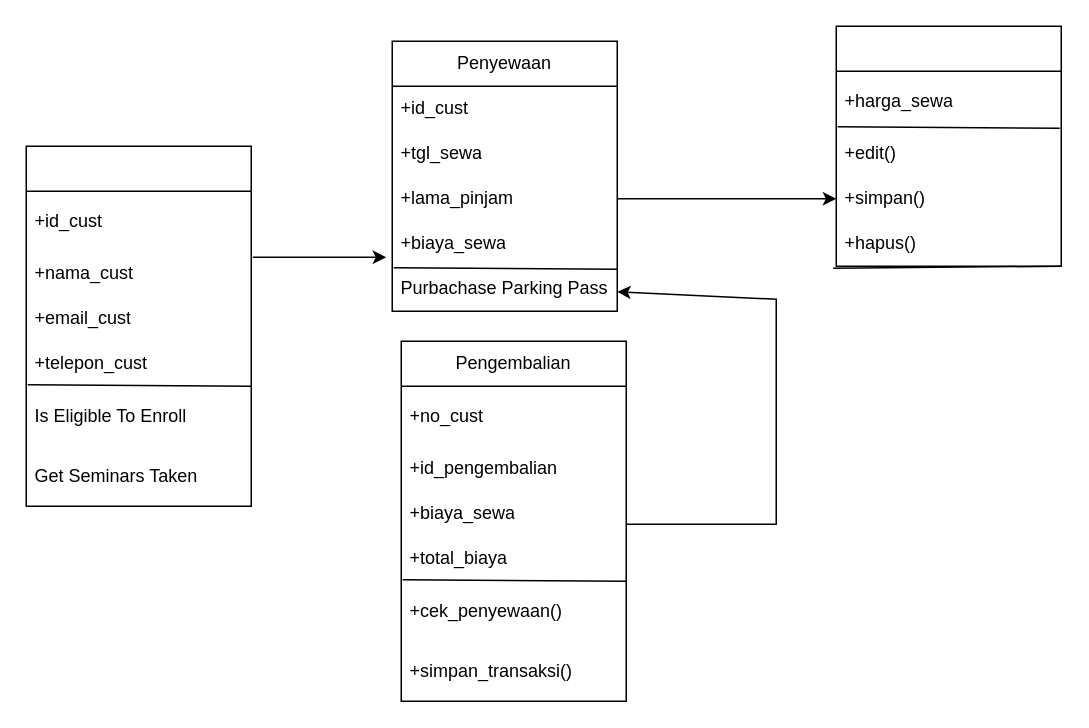
This 1089x728 diagram has some shape labels left out. The shapes that lost their labels are listed below. From the top down, each one's box as (x1, y1, x2, y2) in pixels, then its label:
(835, 25, 1061, 266): aula
(25, 145, 251, 506): Custumer
